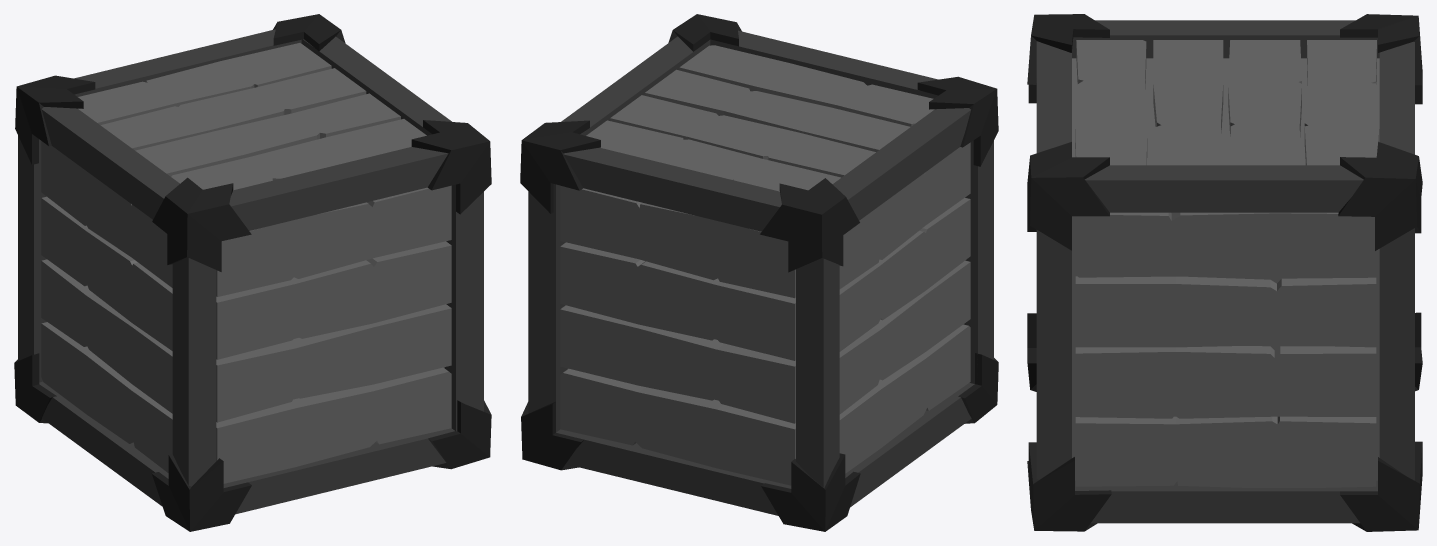
File: CajaMetal.fbx
3 views of the same model, side by side, from view 1: azimuth 30°, elevation 25°; view 2: azimuth 150°, elevation 25°; view 3: azimuth 270°, elevation 25° (orthographic). The views are drawn at different scales.
Visible parts, largest first — view 1: Caja metal Todo junto; view 2: Caja metal Todo junto; view 3: Caja metal Todo junto.
Part boxes in pixels (x1,y1,x2,y2): Caja metal Todo junto: (14, 14, 491, 531); Caja metal Todo junto: (520, 14, 998, 531); Caja metal Todo junto: (1027, 14, 1422, 531).
Bounding box in the file's own units: 208 × 210 × 209.
Materials: 1 (1 with a texture image).
